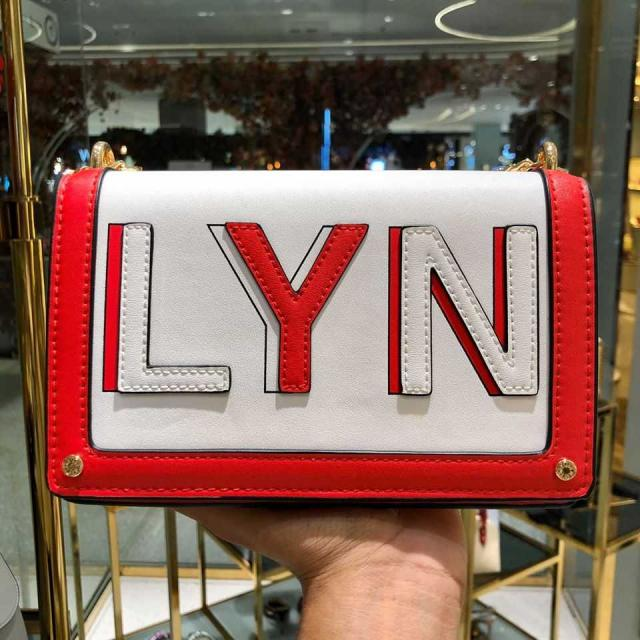Handbag: (42, 170, 598, 512)
